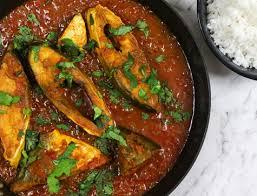Fish Curry: (3, 6, 185, 196)
